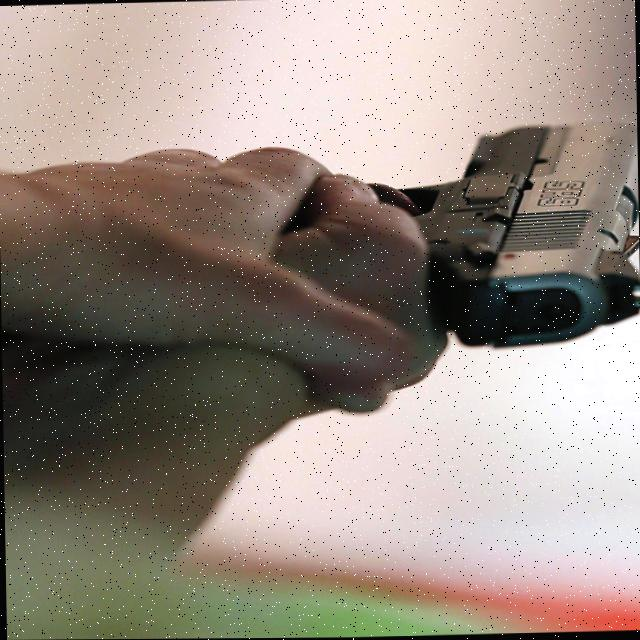pistol: (394, 118, 640, 352)
